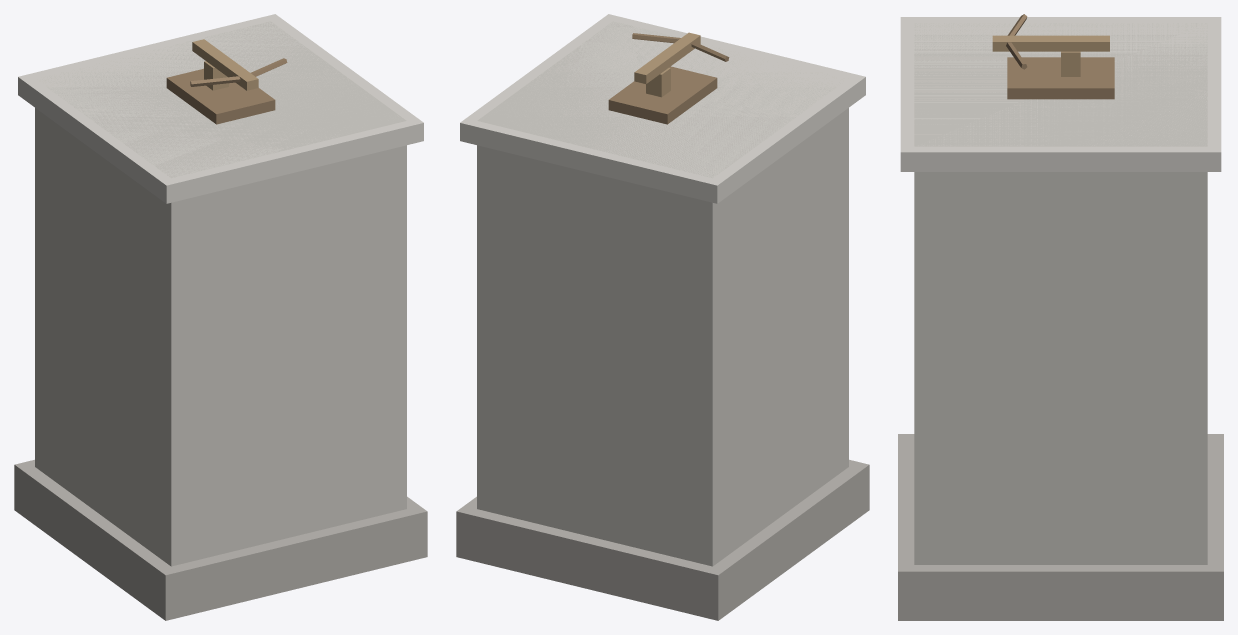
3 renders of one model, left to right at view 1: azimuth 30°, elevation 25°; view 2: azimuth 150°, elevation 25°; view 3: azimuth 270°, elevation 25°, orthographic. The views are drawn at different scales.
Parts seen in each view (by area): view 1: body; view 2: body; view 3: body.
Part boxes in pixels (<box>): body: <box>14,14,427,620</box>; body: <box>456,14,869,620</box>; body: <box>898,14,1223,620</box>.
Size of the model in its own units: 6 by 10.43 by 6.
